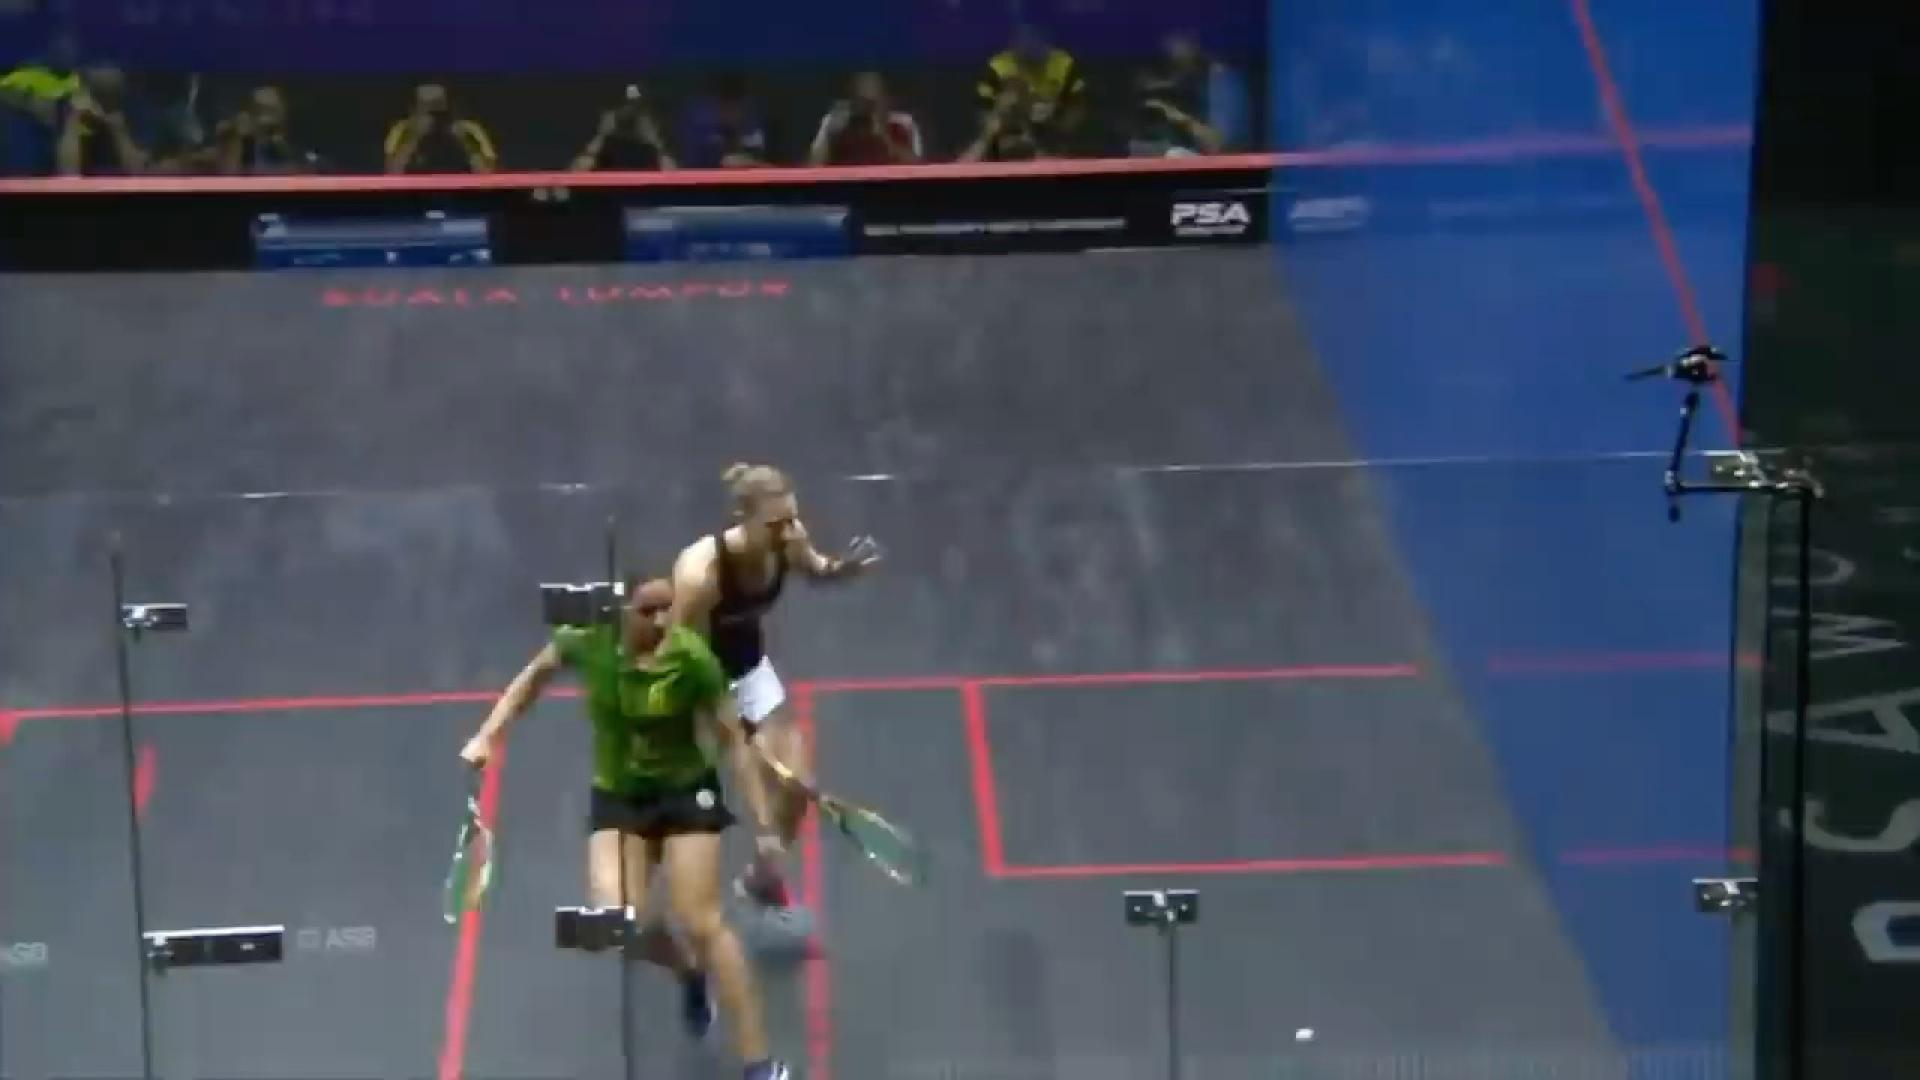Squash-Ball: (1280, 1018, 1328, 1052)
